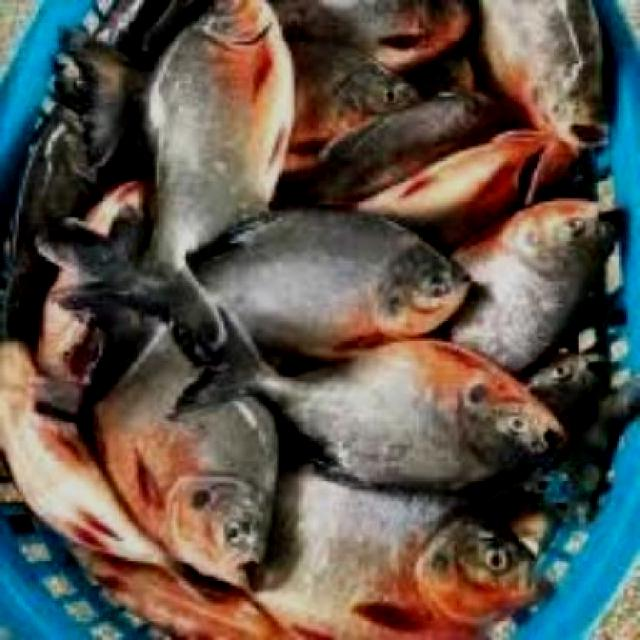ikan-pacu: (113, 0, 296, 292), (106, 308, 276, 582), (294, 472, 546, 636), (286, 340, 566, 482), (204, 207, 470, 341), (447, 195, 621, 356)
